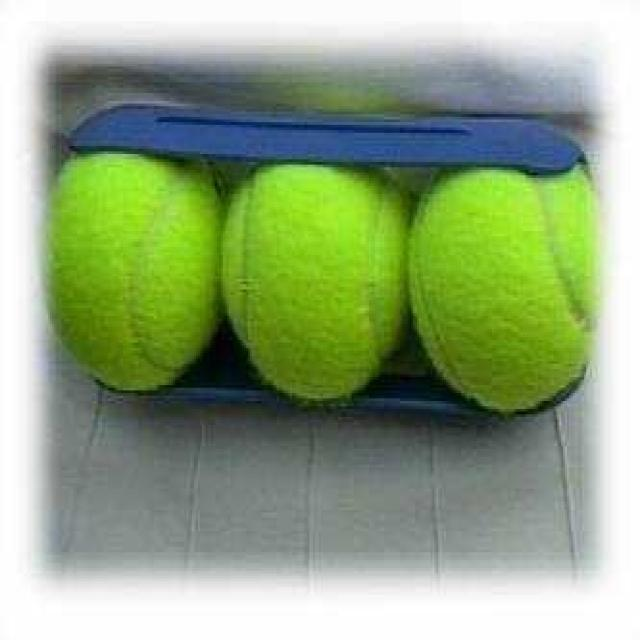Tennis_Ball: (413, 151, 598, 407), (226, 158, 412, 406), (56, 150, 216, 384)
